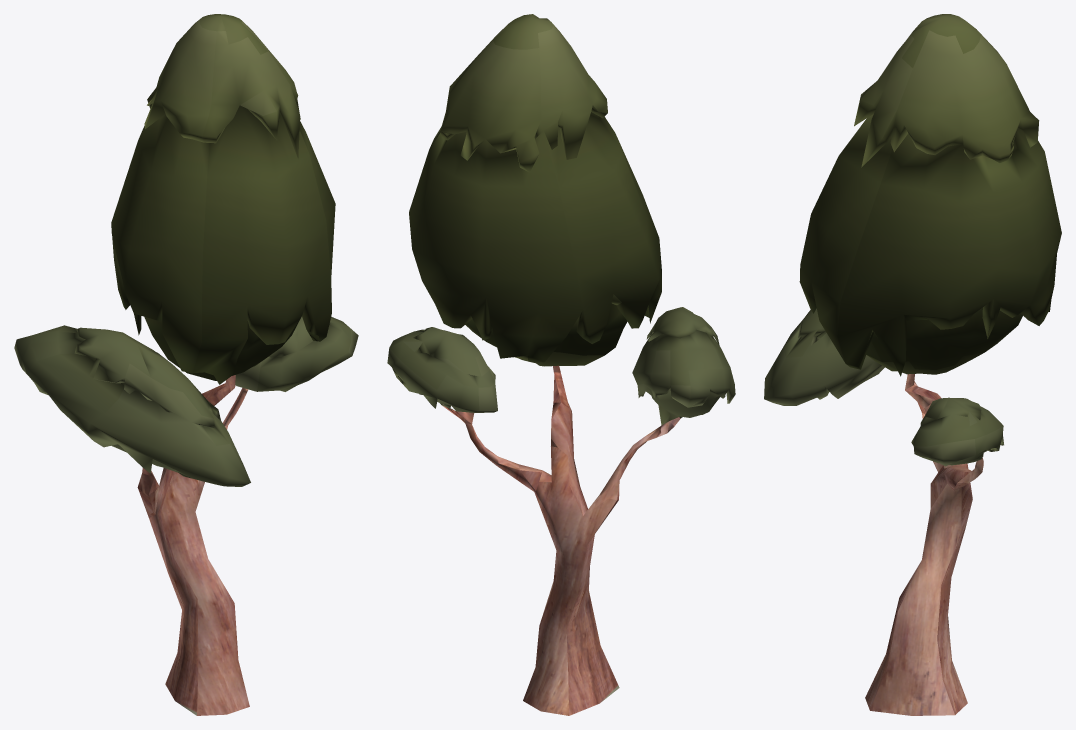
The model's file is bob_tree_tripbush_large.FBX.
3 renders of one model, left to right at view 1: azimuth 30°, elevation 25°; view 2: azimuth 150°, elevation 25°; view 3: azimuth 270°, elevation 25°, orthographic. The views are drawn at different scales.
Parts seen in each view (by area): view 1: triobasic_geo; view 2: triobasic_geo; view 3: triobasic_geo.
Boxes of the visible parts, left/top/right/bottom form: triobasic_geo: left=14, top=14, right=358, bottom=715; triobasic_geo: left=387, top=14, right=735, bottom=715; triobasic_geo: left=764, top=14, right=1061, bottom=715.
Size of the model in its own units: 306 by 589 by 228.
Materials: 1 (1 with a texture image).
